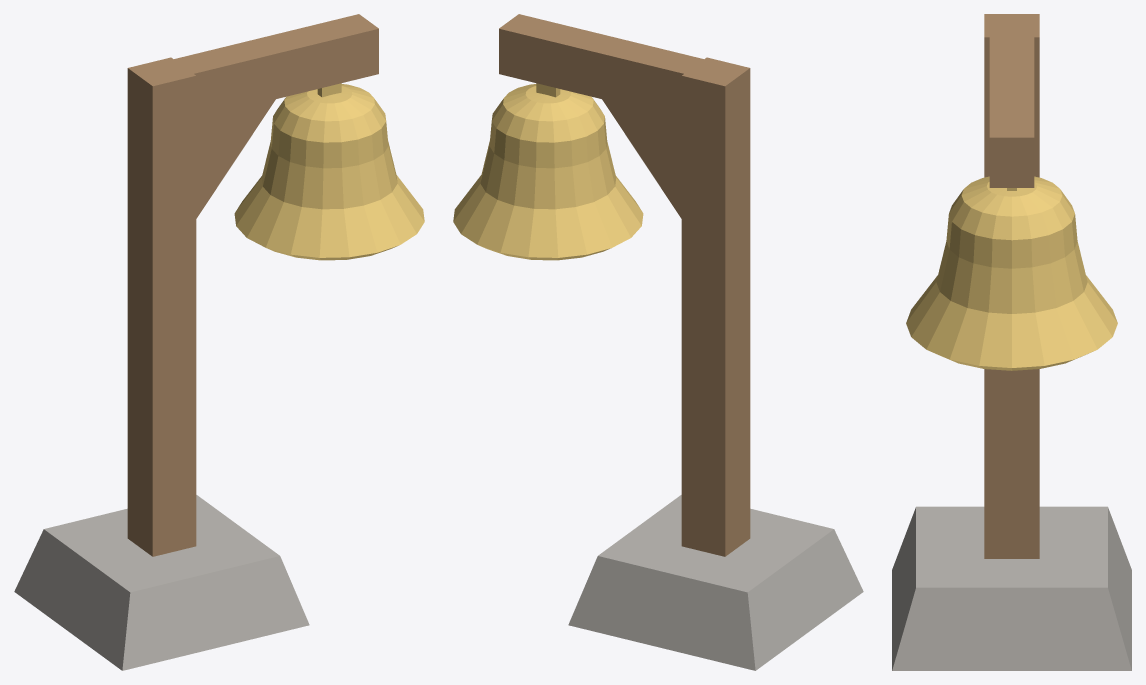
File: cloche.glb
3 renders of one model, left to right at view 1: azimuth 30°, elevation 25°; view 2: azimuth 150°, elevation 25°; view 3: azimuth 270°, elevation 25°, orthographic. The views are drawn at different scales.
Visible parts, largest first — view 1: potence, cloche; view 2: potence, cloche; view 3: potence, cloche.
Boxes of the visible parts, x1=… form: potence: x1=14, y1=14, x2=378, y2=670; cloche: x1=234, y1=83, x2=424, y2=260; potence: x1=499, y1=14, x2=863, y2=670; cloche: x1=453, y1=83, x2=643, y2=260; potence: x1=892, y1=14, x2=1131, y2=670; cloche: x1=906, y1=176, x2=1117, y2=370.
Size of the model in its own units: 1.75 by 2.6 by 0.95.
